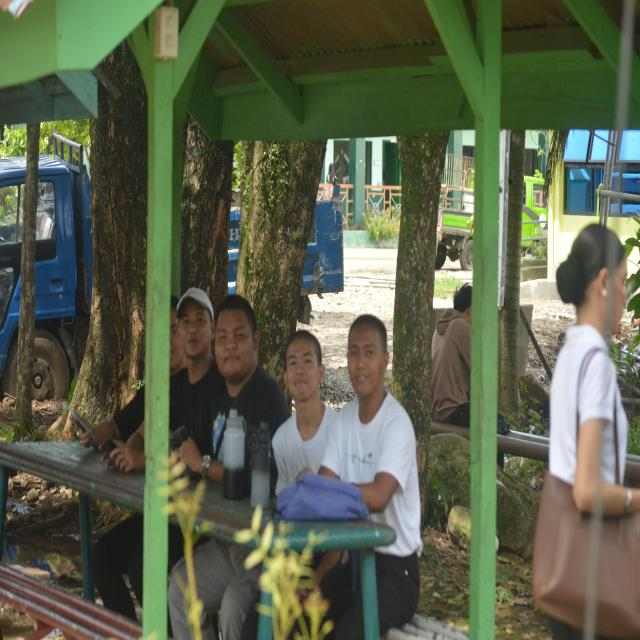person: (320, 315, 422, 635), (550, 225, 639, 515), (179, 295, 289, 483), (170, 288, 221, 432), (432, 284, 472, 428)
